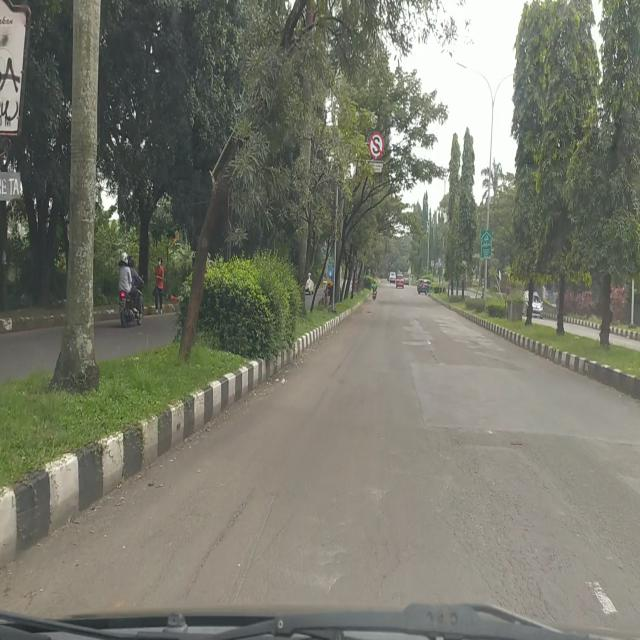Drain Hole: (432, 453, 555, 614)
